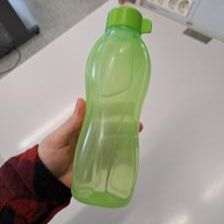bottle: (68, 5, 155, 205)
